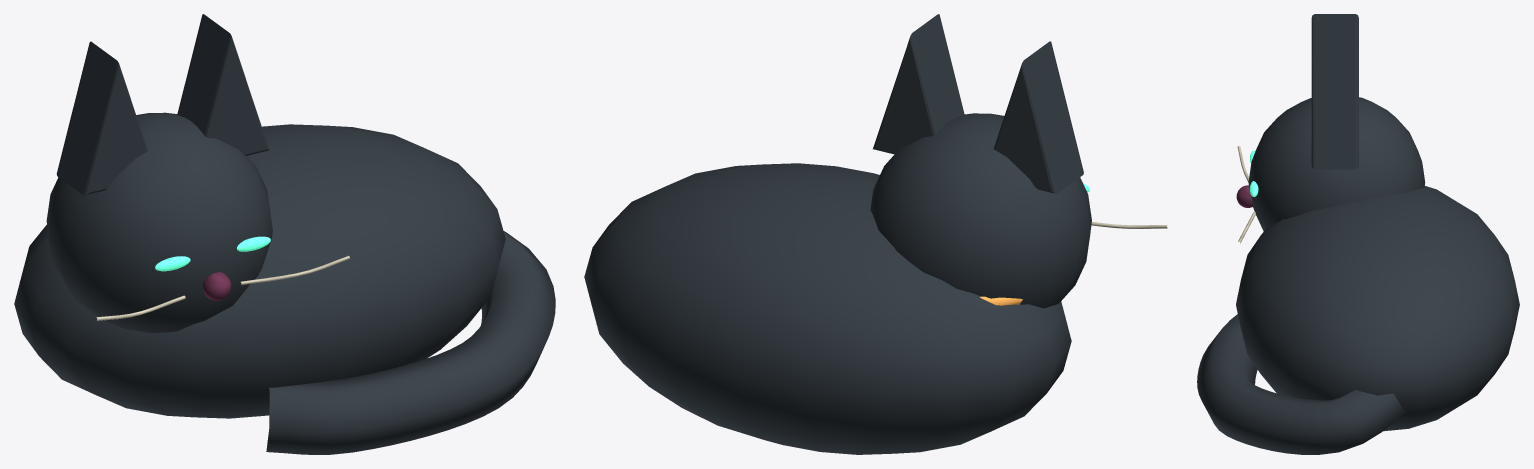
The model's file is hollowwick-halloween-curled-familiar-cat-3e6c5484__21640.glb.
The picture shows the model from 3 angles, left to right: view 1: azimuth 30°, elevation 25°; view 2: azimuth 150°, elevation 25°; view 3: azimuth 270°, elevation 25°; orthographic projection. The views are drawn at different scales.
Visible parts, largest first — view 1: curled-familiar-cat; view 2: curled-familiar-cat; view 3: curled-familiar-cat.
Part boxes in pixels (bbox=[...]): curled-familiar-cat: bbox=[14, 14, 555, 454]; curled-familiar-cat: bbox=[584, 14, 1167, 454]; curled-familiar-cat: bbox=[1197, 14, 1519, 454].
Bounding box in the file's own units: 0.7237 × 0.5496 × 0.5115.
5 materials, 2 textured.
